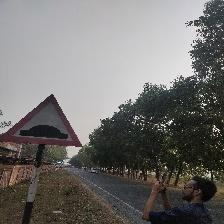Speed-breaker: (1, 90, 87, 152)
